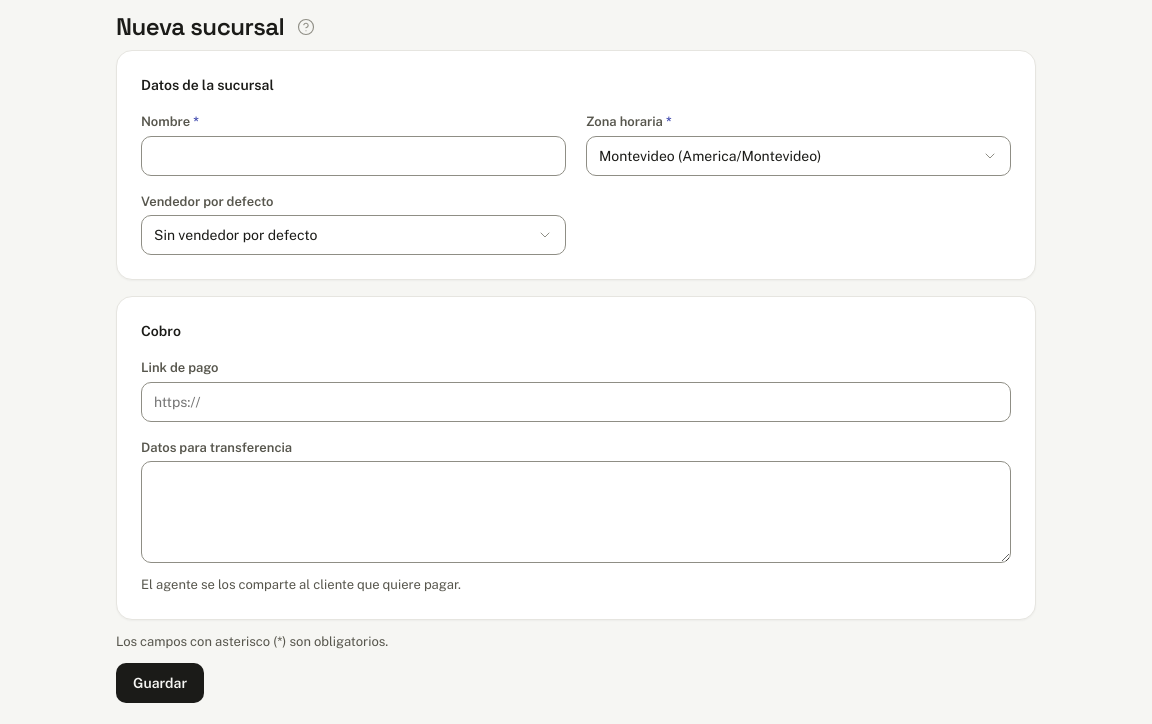
Test: BranchFormPage — creación › un error del backend se muestra sin perder lo cargado
Type "X" into the field labelled "Nombre" at (354, 156), box [141,136,566,176]
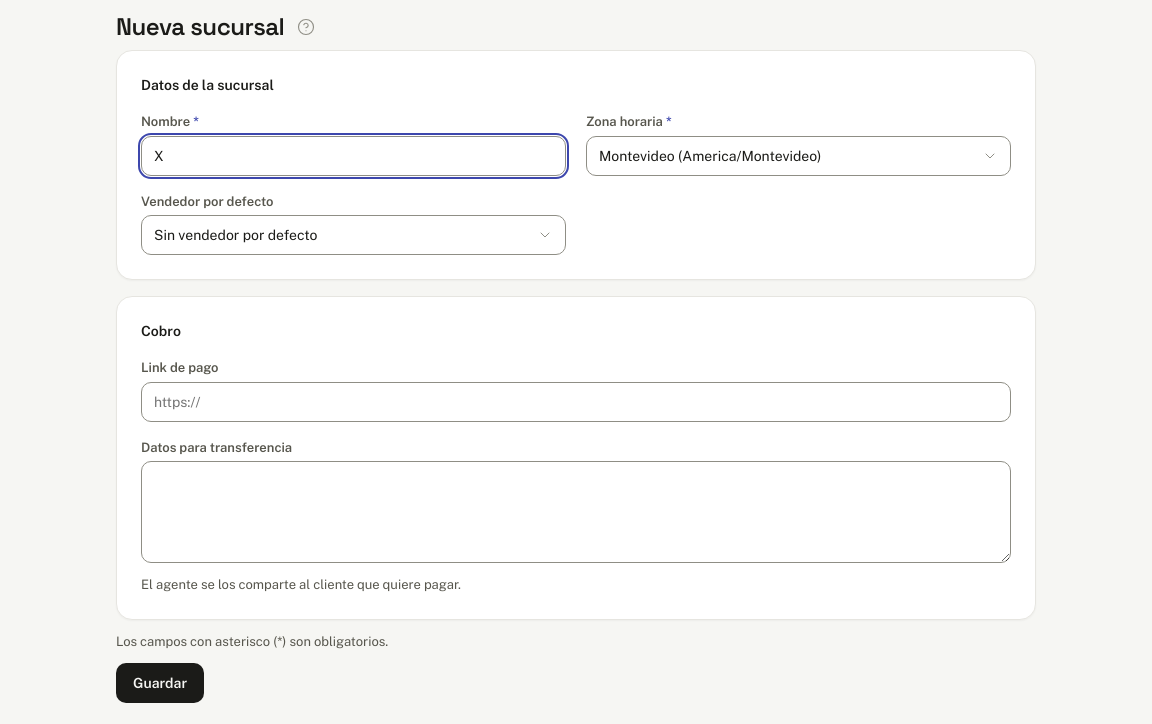
Click the button "Guardar" at (160, 683), box [116,663,204,703]
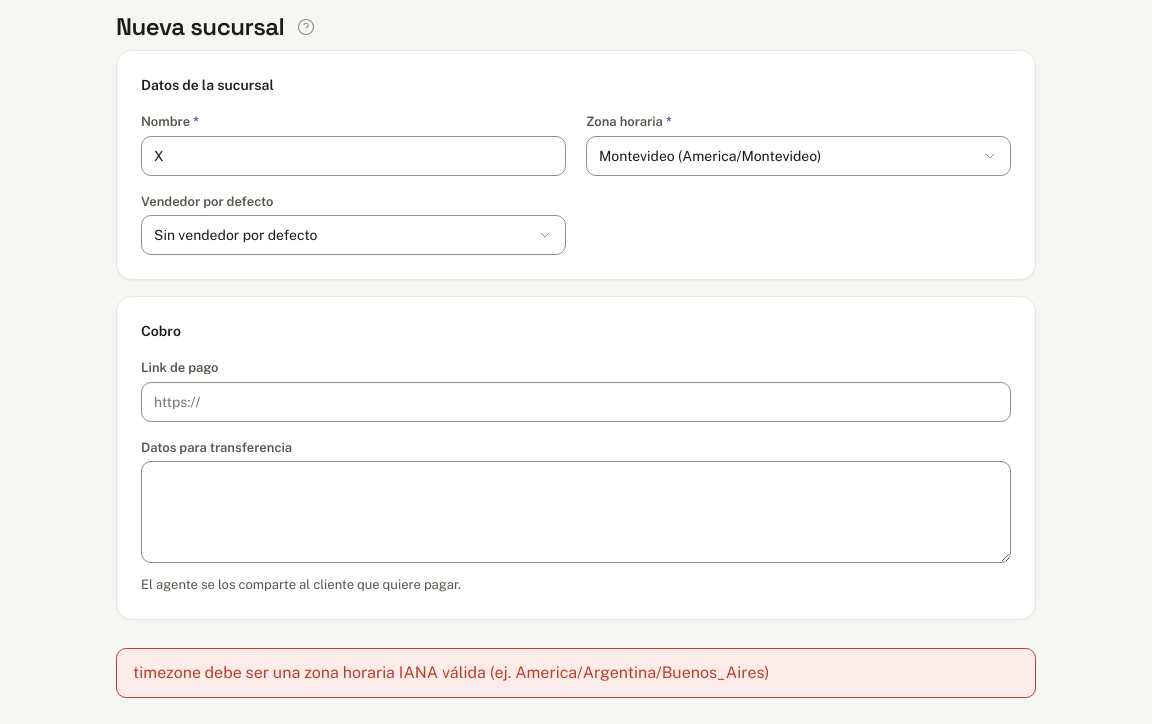
Check: the message shows "zona horaria IANA válida", box [133,662,769,682]
